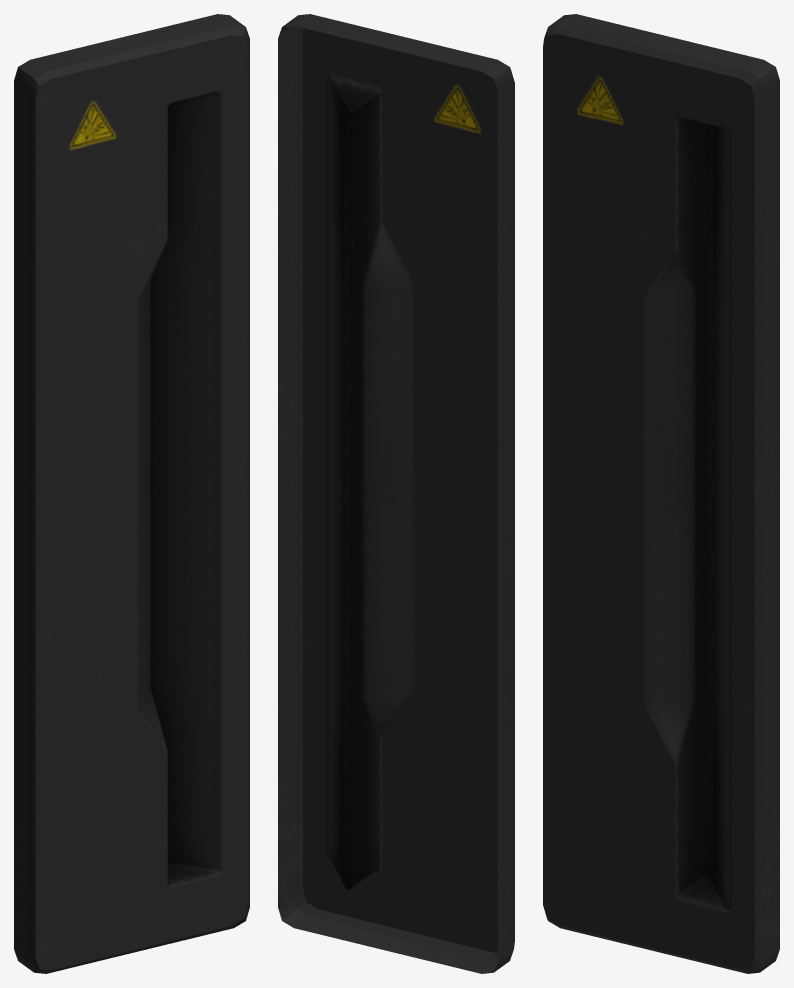
Rendered from Fake Locker.fbx.
3 renders of one model, left to right at view 1: azimuth 30°, elevation 25°; view 2: azimuth 150°, elevation 25°; view 3: azimuth 330°, elevation 25°, orthographic.
Visible parts, largest first — view 1: fake_locker; view 2: fake_locker; view 3: fake_locker.
Part boxes in pixels (box(x1,y1,x2,y2)): fake_locker: box(14, 14, 249, 973); fake_locker: box(278, 14, 514, 973); fake_locker: box(543, 14, 779, 973).
Size of the model in its own units: 18.25 by 71.57 by 4.2.
